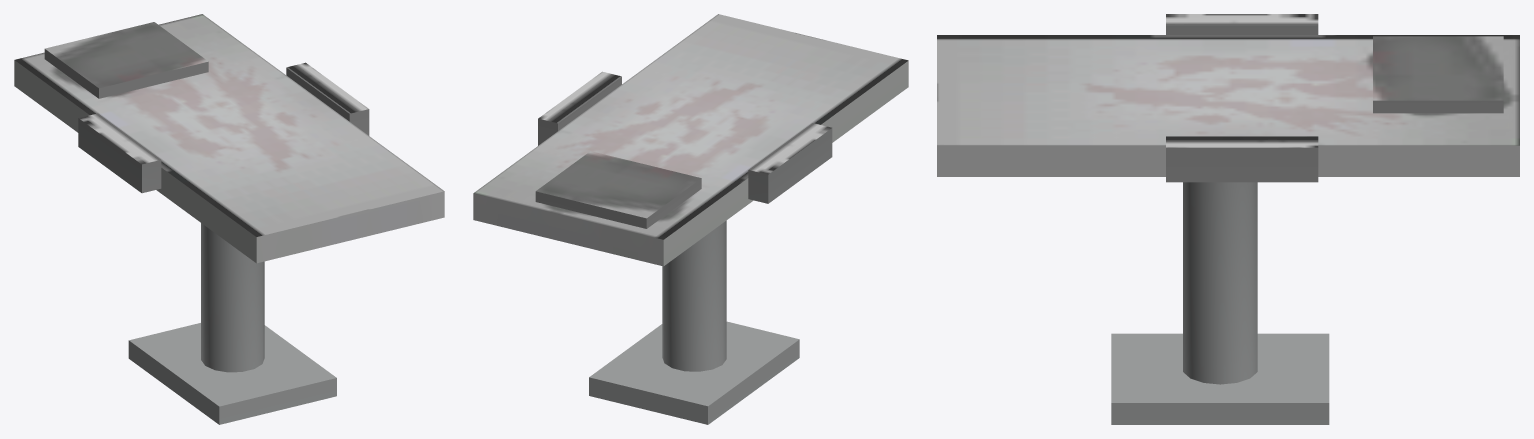
File: Building_AncientOperatingTable.obj
3 views of the same model, side by side, from view 1: azimuth 30°, elevation 25°; view 2: azimuth 150°, elevation 25°; view 3: azimuth 270°, elevation 25° (orthographic). The views are drawn at different scales.
Parts seen in each view (by area): view 1: Body; view 2: Body; view 3: Body.
Part boxes in pixels (box(x1,y1,x2,y2)): Body: box(14, 14, 444, 424); Body: box(473, 14, 908, 424); Body: box(937, 14, 1519, 424).
Bounding box in the file's own units: 0.9062 × 0.99 × 1.67.
1 material, 1 textured.
